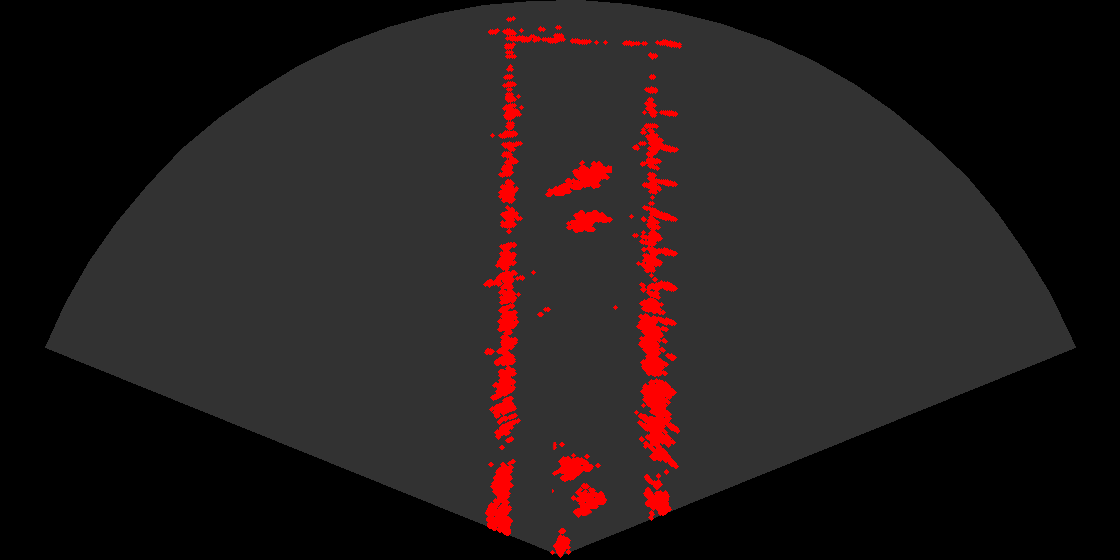AUV: (560, 208, 616, 240)
cage: (552, 442, 615, 526)
frogman: (544, 154, 612, 201)
